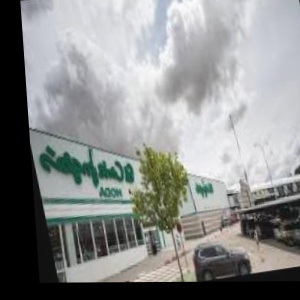corte_ingles: (135, 86, 151, 239)
